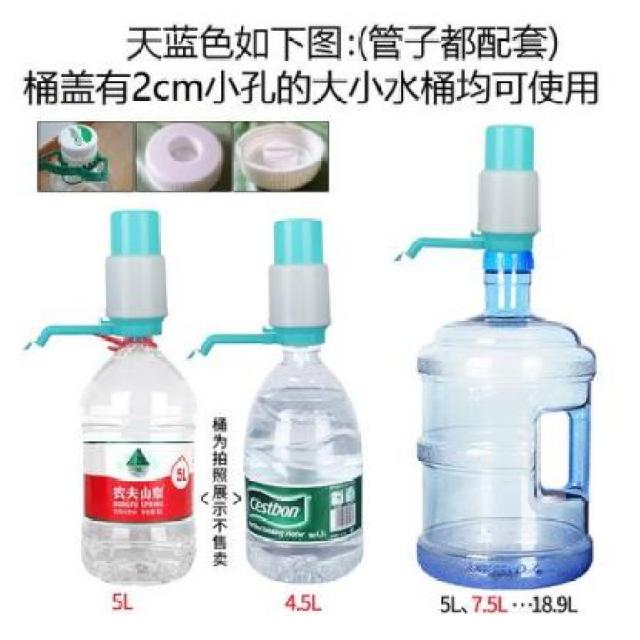coolerbottle: (412, 251, 597, 595)
